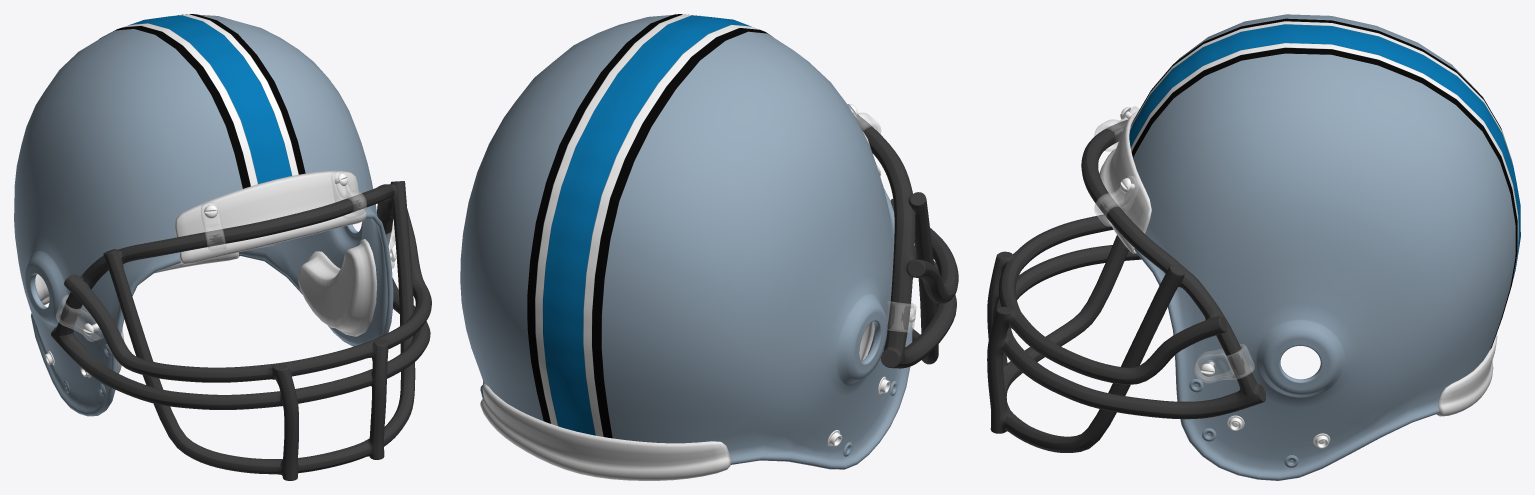
File: HockeyHelmet.glb
3 renders of one model, left to right at view 1: azimuth 30°, elevation 25°; view 2: azimuth 150°, elevation 25°; view 3: azimuth 270°, elevation 25°, orthographic. The views are drawn at different scales.
Visible parts, largest first — view 1: Helmet, Mask, Helmet_TrimSheet, Binding_1, Pad, Tube_2, Tube_1-1, Tube_1; view 2: Helmet, Helmet_TrimSheet, Mask, Binding_2, Tube_2; view 3: Helmet, Mask, Helmet_TrimSheet, Binding_1, Binding_2, Tube_2-1, Tube_1-1.
Part boxes in pixels (bbox=[...]): Helmet: bbox=[14, 14, 393, 416]; Mask: bbox=[51, 181, 431, 480]; Helmet_TrimSheet: bbox=[99, 14, 305, 188]; Binding_1: bbox=[175, 170, 366, 264]; Pad: bbox=[35, 239, 377, 373]; Tube_2: bbox=[56, 294, 103, 341]; Tube_1-1: bbox=[331, 171, 366, 218]; Tube_1: bbox=[201, 202, 226, 251]; Helmet: bbox=[460, 15, 912, 469]; Helmet_TrimSheet: bbox=[527, 14, 773, 438]; Mask: bbox=[855, 115, 958, 368]; Binding_2: bbox=[480, 384, 731, 480]; Tube_2: bbox=[885, 301, 916, 332]; Helmet: bbox=[1133, 14, 1515, 480]; Mask: bbox=[987, 119, 1265, 452]; Helmet_TrimSheet: bbox=[1129, 18, 1520, 349]; Binding_1: bbox=[1099, 110, 1151, 253]; Binding_2: bbox=[1436, 334, 1497, 416]; Tube_2-1: bbox=[1194, 344, 1254, 382]; Tube_1-1: bbox=[1094, 176, 1139, 226].
Bounding box in the file's own units: 0.2458 × 0.2326 × 0.2991.
6 materials, 1 textured.
